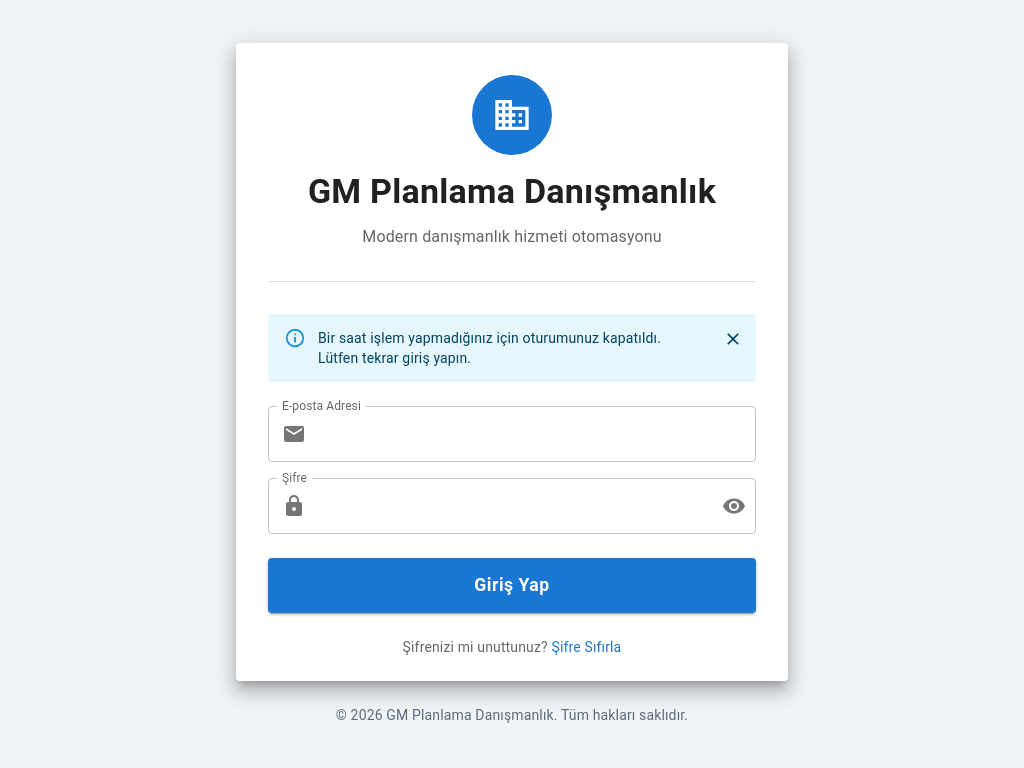
giriş formu yeni oturumu başlatır ve önceki kapanma nedenini temizler
The image size is (1024, 768).
expect the text "Bir saat işlem yapmadığınız için oturumunuz kapatıldı. Lütfen tekrar giriş yapın." is shown: met, box x1=318 y1=330 x2=661 y2=366
In the field labelled "E-posta Adresi": {"x": 535, "y": 434} x1=314 y1=406 x2=756 y2=462, type "test@example.test"
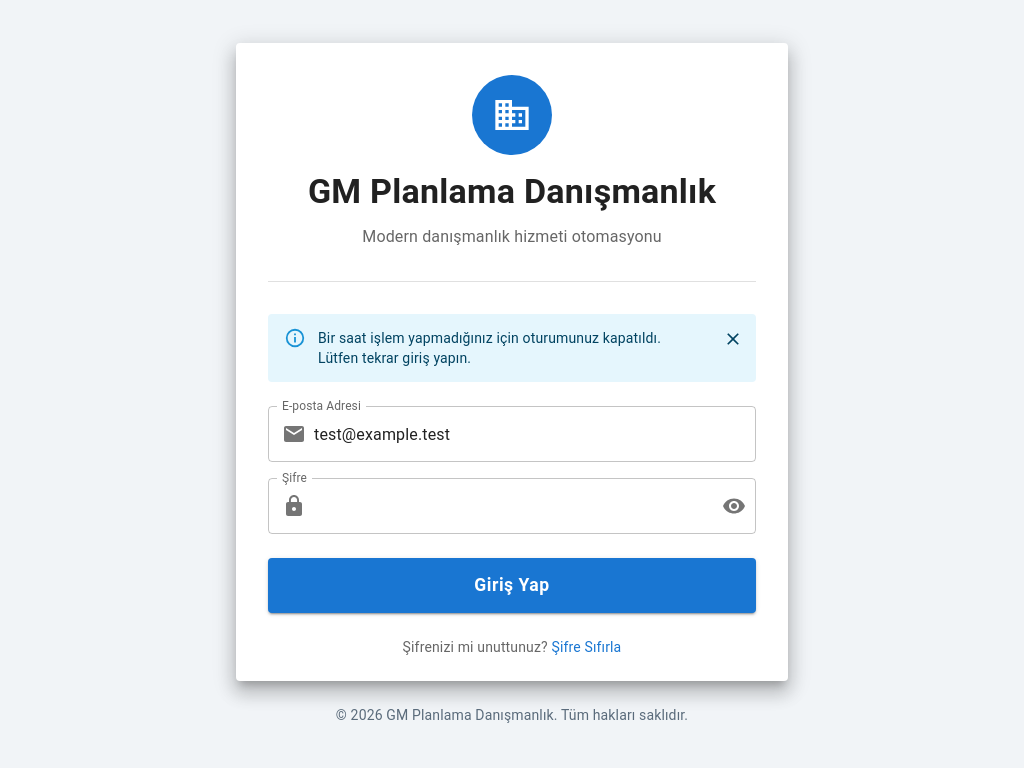
In the password field labelled "Şifre": {"x": 510, "y": 506} x1=314 y1=478 x2=706 y2=534, type "deneme123"
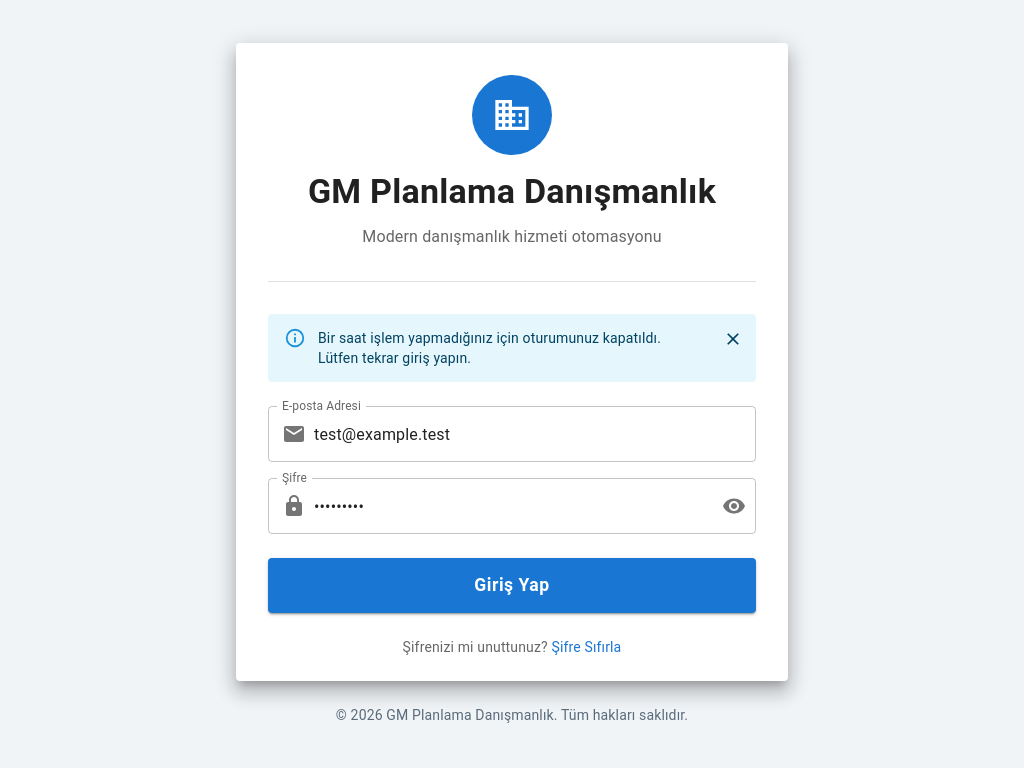
Click the button "Giriş Yap": {"x": 512, "y": 585} x1=268 y1=558 x2=756 y2=613
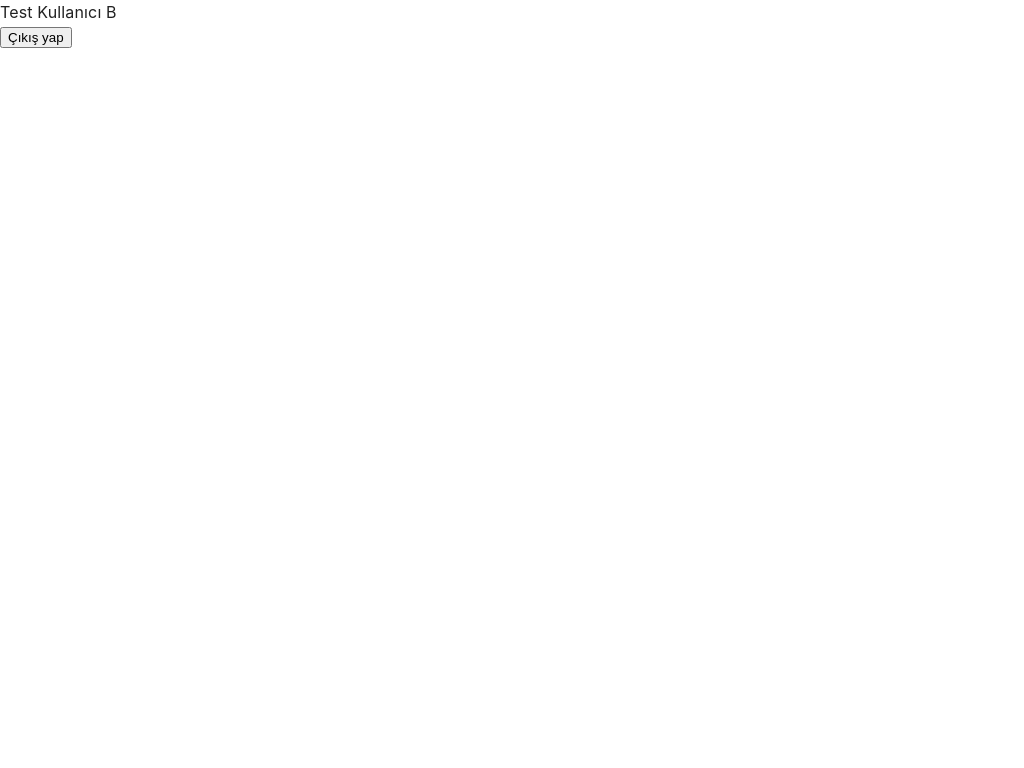
expect the text "Test Kullanıcı B" is shown: met, box x1=0 y1=2 x2=117 y2=22
